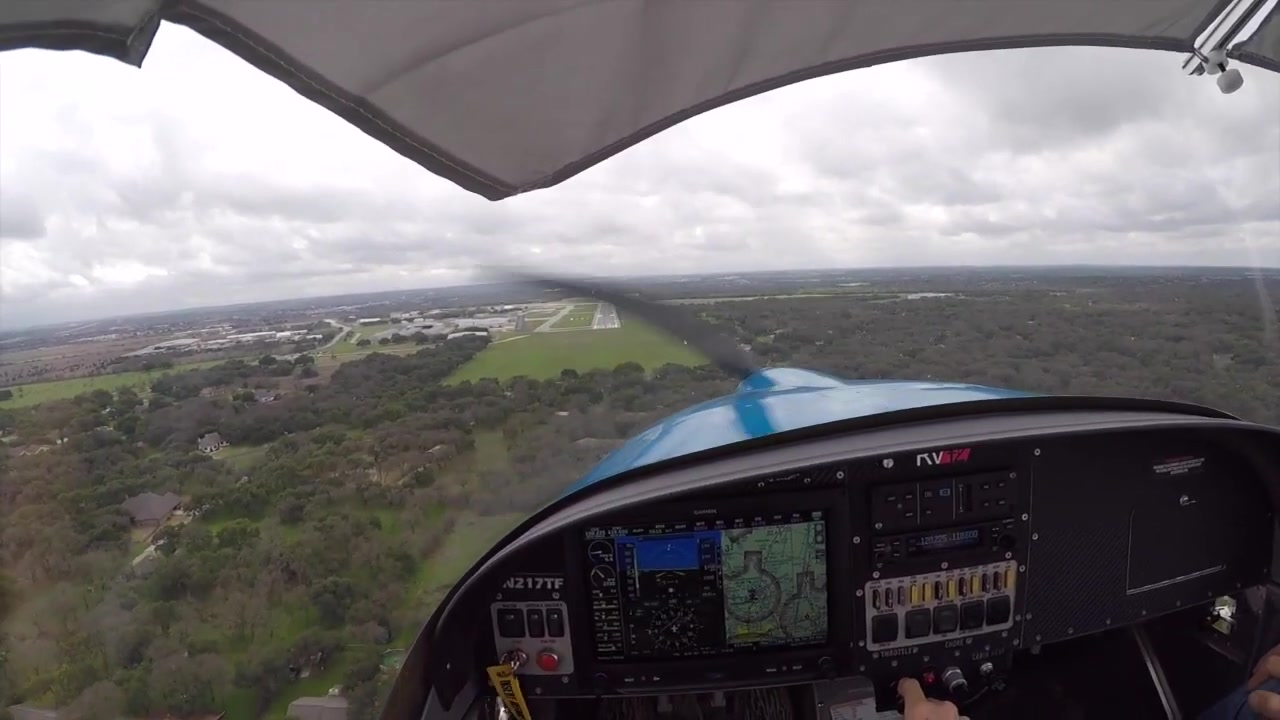runway: (593, 299, 623, 331)
